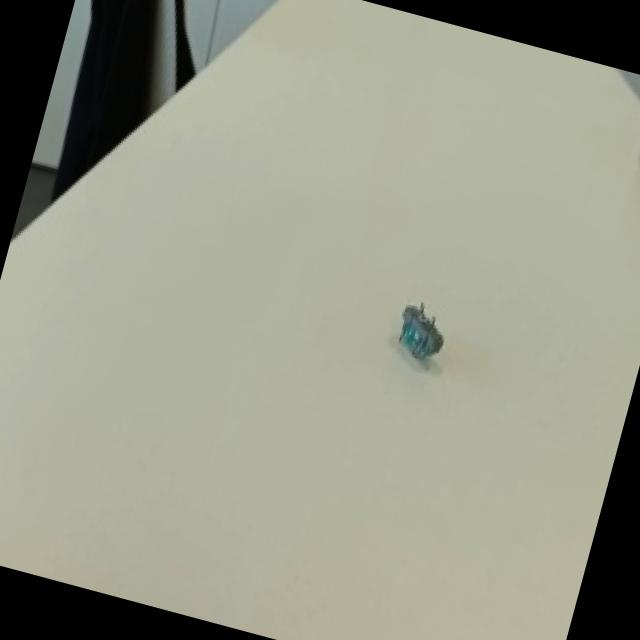5_NanoBug_GrisClaro: (376, 282, 486, 394)
